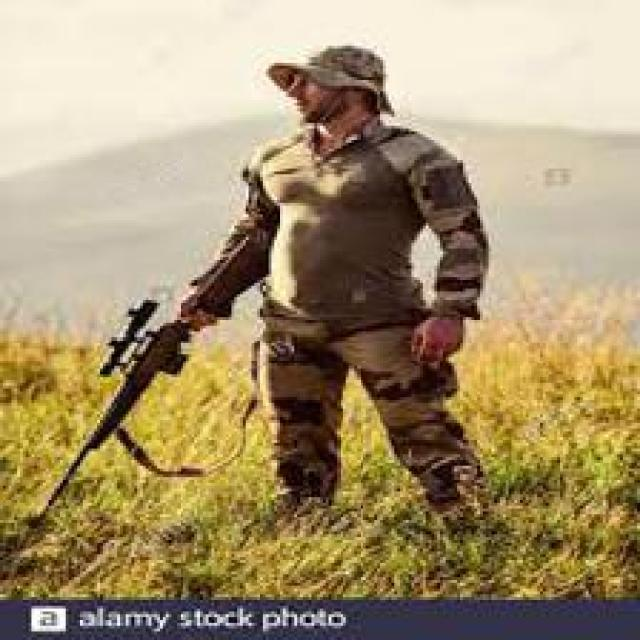Rifle: (14, 289, 207, 547)
